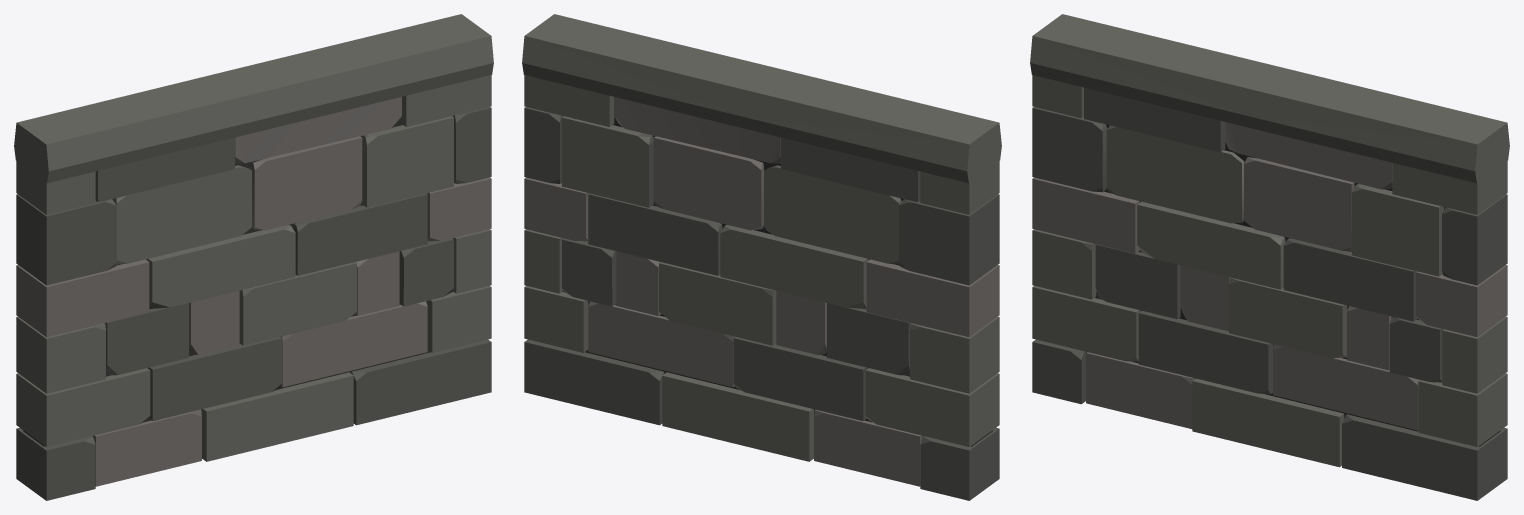
File: Wall02.fbx
3 views of the same model, side by side, from view 1: azimuth 30°, elevation 25°; view 2: azimuth 150°, elevation 25°; view 3: azimuth 330°, elevation 25° (orthographic).
Visible parts, largest first — view 1: Wall02; view 2: Wall02; view 3: Wall02.
Boxes of the visible parts, bbox=[...] form: Wall02: bbox=[14, 14, 493, 500]; Wall02: bbox=[522, 14, 1001, 500]; Wall02: bbox=[1030, 14, 1509, 500].
Size of the model in its own units: 200 by 153 by 27.03.
